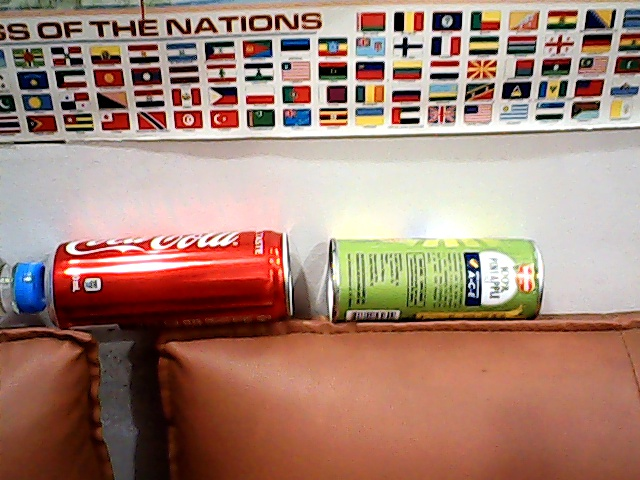Cola: (47, 224, 296, 328)
Pine Juice: (318, 223, 565, 337)
